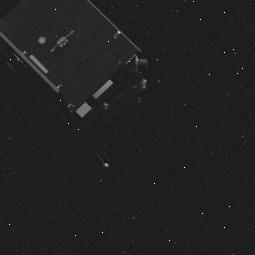proba_2: (0, 0, 173, 171)
